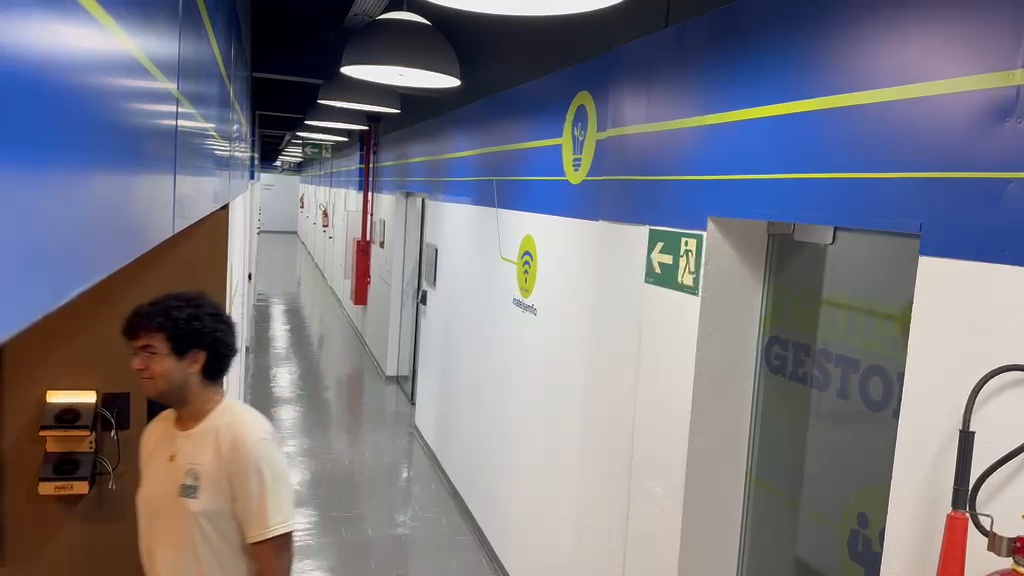person: (122, 291, 296, 573)
